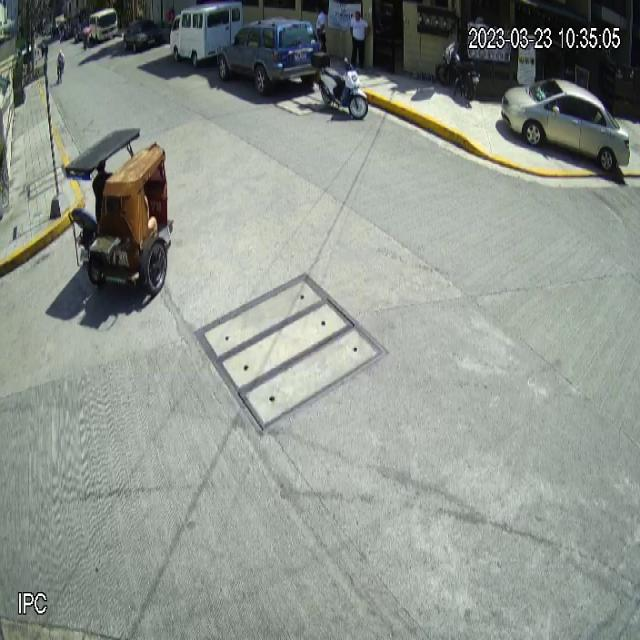Car: (500, 76, 631, 175), (216, 16, 321, 97)
Motorcycle: (310, 49, 370, 121)
Tricycle: (62, 124, 175, 296)
Van: (169, 0, 244, 71)
